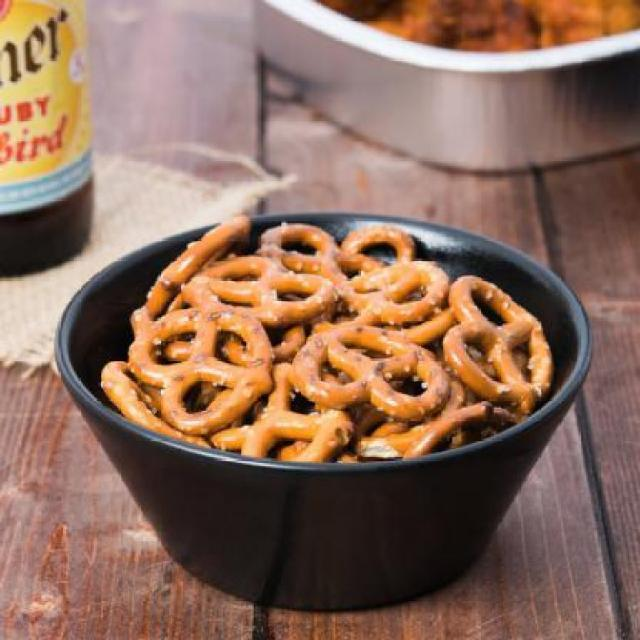Salatini packaged: (96, 210, 556, 462)
